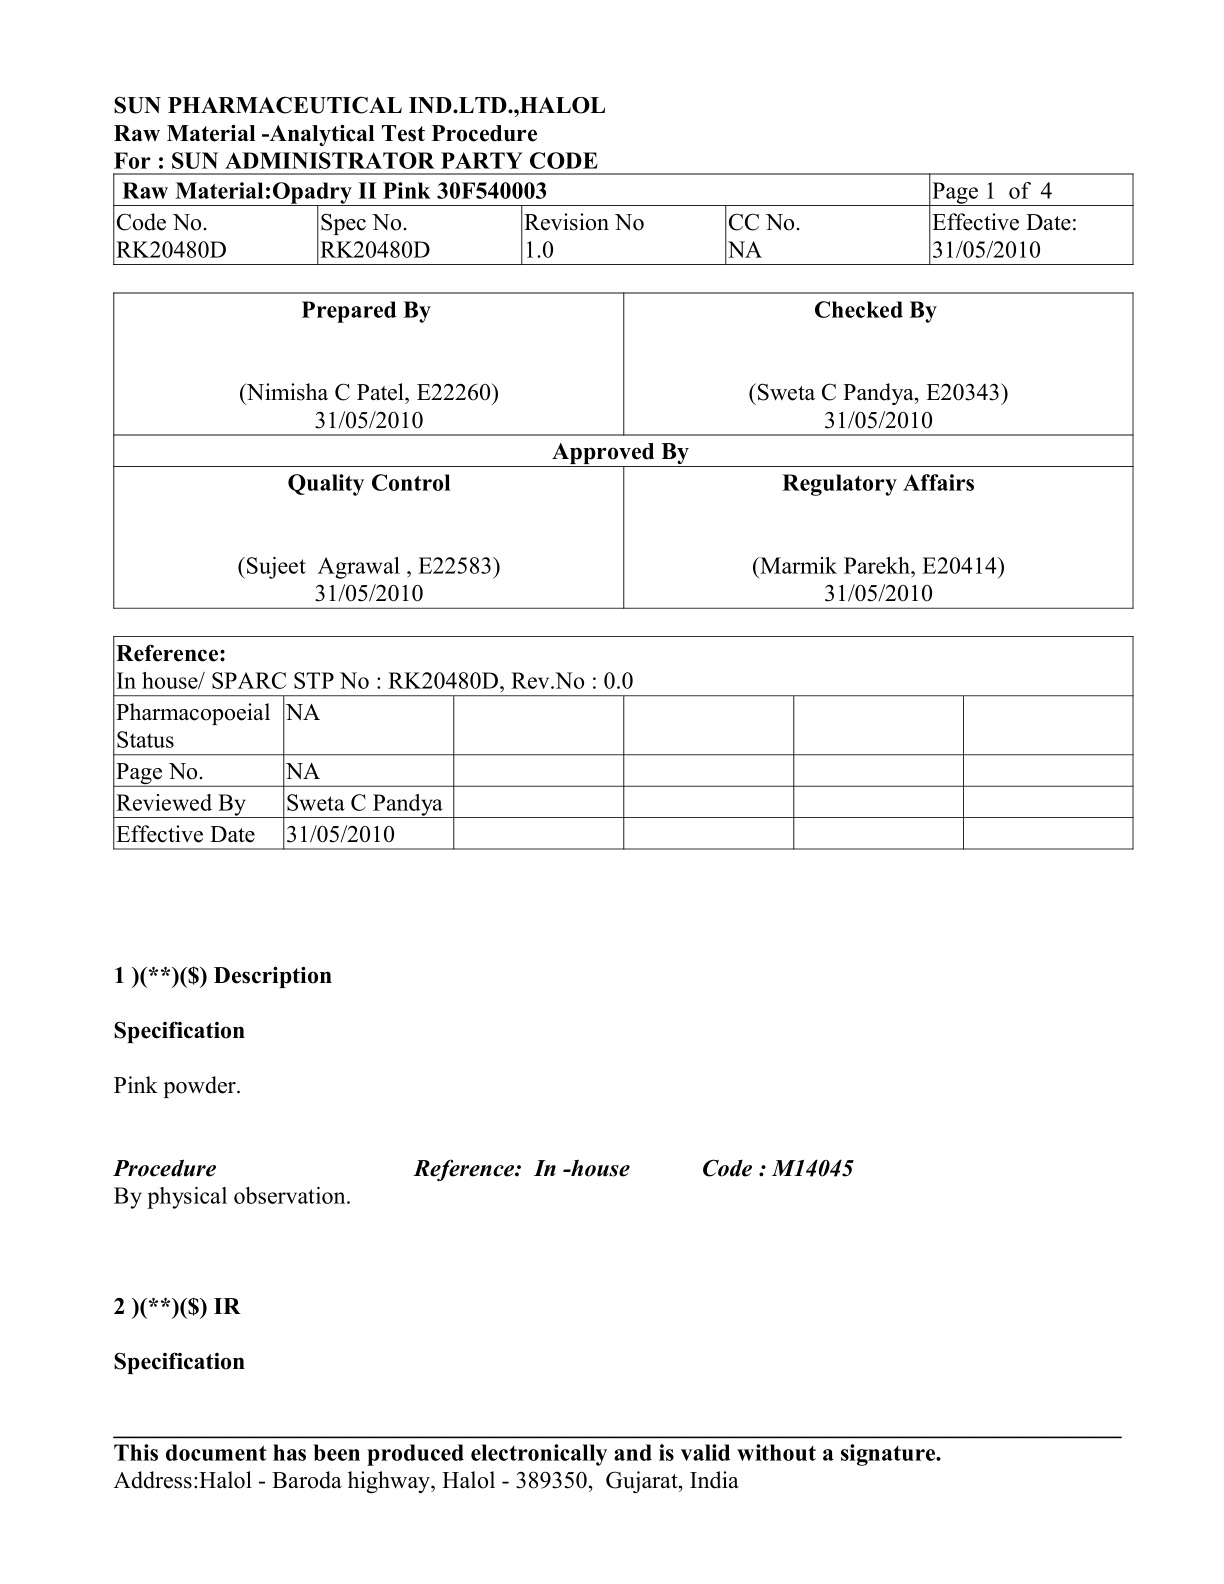merged_cells: (112, 292, 1134, 609), (112, 635, 1134, 850), (112, 174, 1134, 265)
